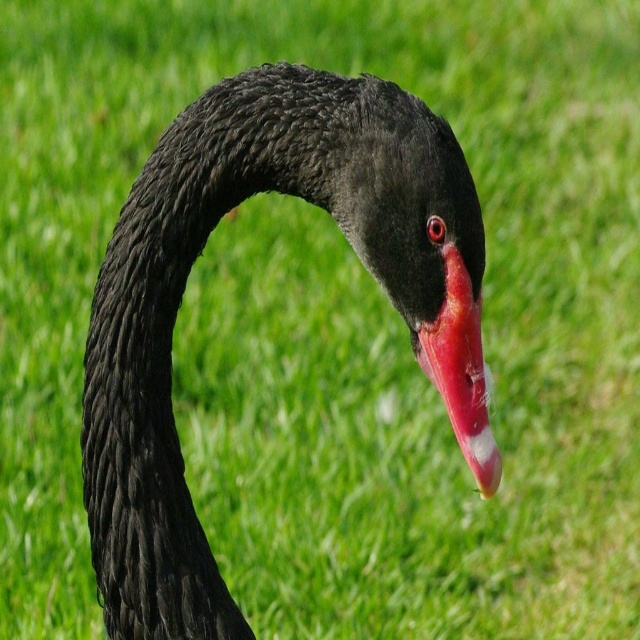Swan: (80, 60, 504, 640)
